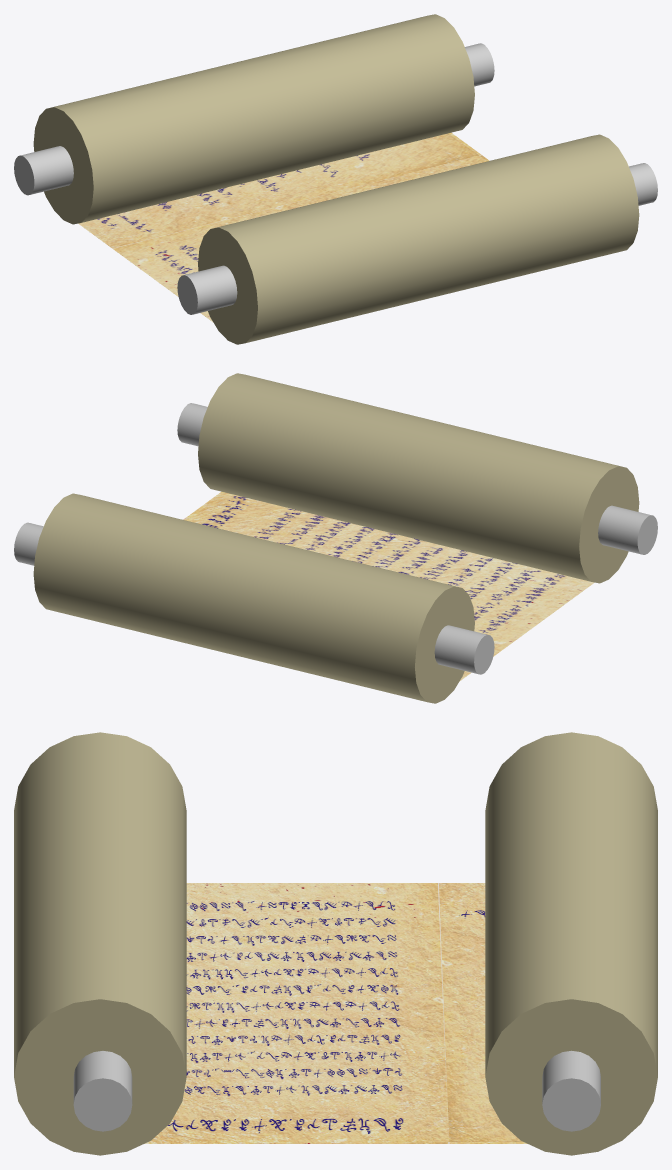
File: Scroll.fbx
3 renders of one model, top to bottom at view 1: azimuth 30°, elevation 25°; view 2: azimuth 150°, elevation 25°; view 3: azimuth 270°, elevation 25°, orthographic. The views are drawn at different scales.
Parts seen in each view (by area): view 1: pCylinder36; view 2: pCylinder36; view 3: pCylinder36.
Boxes of the visible parts, bbox=[...] form: pCylinder36: bbox=[14, 14, 657, 344]; pCylinder36: bbox=[14, 373, 657, 703]; pCylinder36: bbox=[14, 732, 657, 1155].
Bounding box in the file's own units: 1.18 × 0.2664 × 0.9938.
